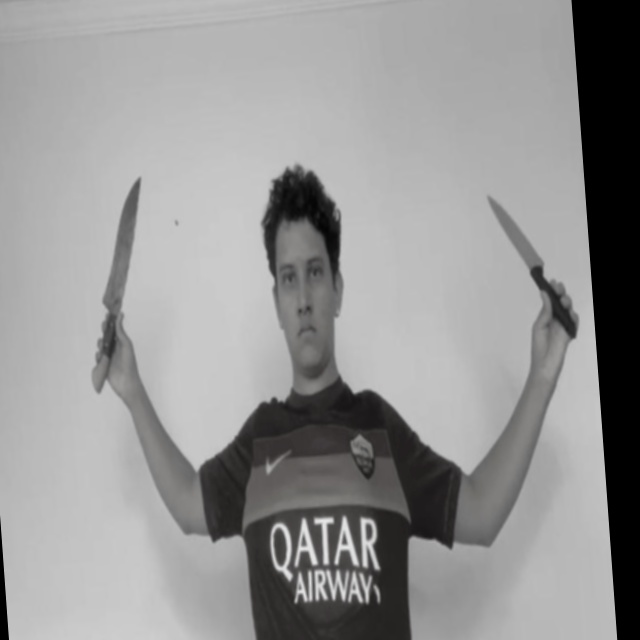Sharp-Object: (92, 172, 151, 307), (486, 191, 544, 267)
